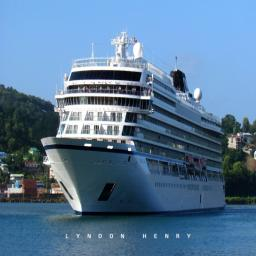cruises: (41, 31, 228, 220)
